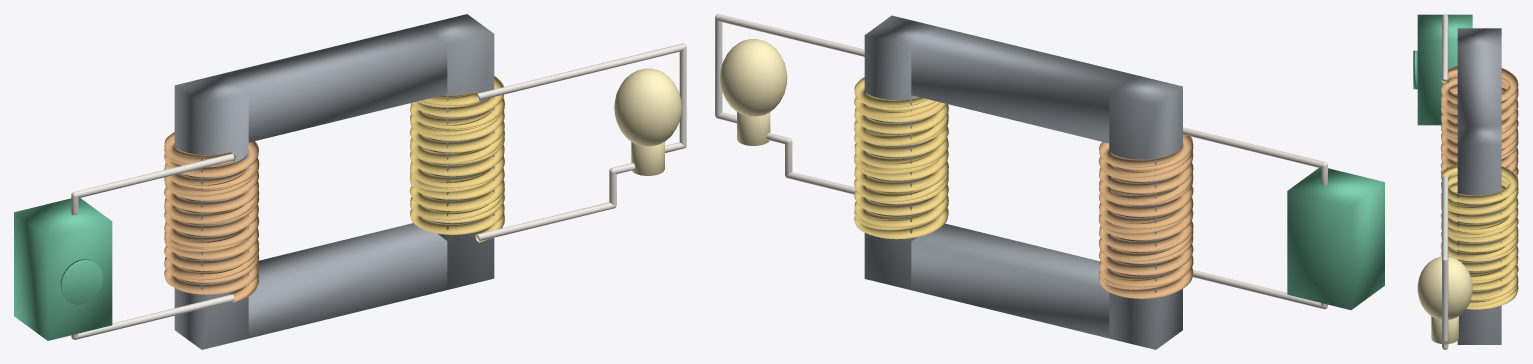
The model's file is transformer.glb.
The picture shows the model from 3 angles, left to right: view 1: azimuth 30°, elevation 25°; view 2: azimuth 150°, elevation 25°; view 3: azimuth 270°, elevation 25°; orthographic projection. The views are drawn at different scales.
Visible parts, largest first — view 1: core, supply, step_down_primary, step_up_secondary, wires, bulb, step_up_primary, step_down_secondary; view 2: core, supply, step_down_primary, step_up_secondary, wires, bulb, step_up_primary, step_down_secondary; view 3: core, step_up_secondary, supply, bulb, step_down_primary, step_down_secondary, wires, step_up_primary.
Boxes of the visible parts, bbox=[...] form: core: bbox=[174, 14, 494, 349]; supply: bbox=[14, 198, 112, 340]; step_down_primary: bbox=[164, 132, 259, 302]; step_up_secondary: bbox=[409, 75, 504, 242]; wires: bbox=[71, 43, 686, 339]; bulb: bbox=[614, 68, 681, 175]; step_up_primary: bbox=[164, 139, 259, 302]; step_down_secondary: bbox=[410, 92, 504, 242]; core: bbox=[864, 15, 1182, 349]; supply: bbox=[1287, 168, 1384, 310]; step_down_primary: bbox=[1098, 133, 1193, 298]; step_up_secondary: bbox=[854, 77, 948, 239]; wires: bbox=[715, 14, 1327, 309]; bulb: bbox=[720, 39, 787, 145]; step_up_primary: bbox=[1099, 135, 1193, 289]; step_down_secondary: bbox=[854, 97, 948, 230]; core: bbox=[1457, 28, 1501, 344]; step_up_secondary: bbox=[1440, 164, 1518, 309]; supply: bbox=[1413, 14, 1472, 125]; bulb: bbox=[1417, 256, 1472, 344]; step_down_primary: bbox=[1440, 66, 1518, 194]; step_down_secondary: bbox=[1440, 165, 1518, 306]; wires: bbox=[1442, 14, 1448, 349]; step_up_primary: bbox=[1440, 67, 1518, 202].
Size of the model in its own units: 0.2241 by 0.08 by 0.0381.
